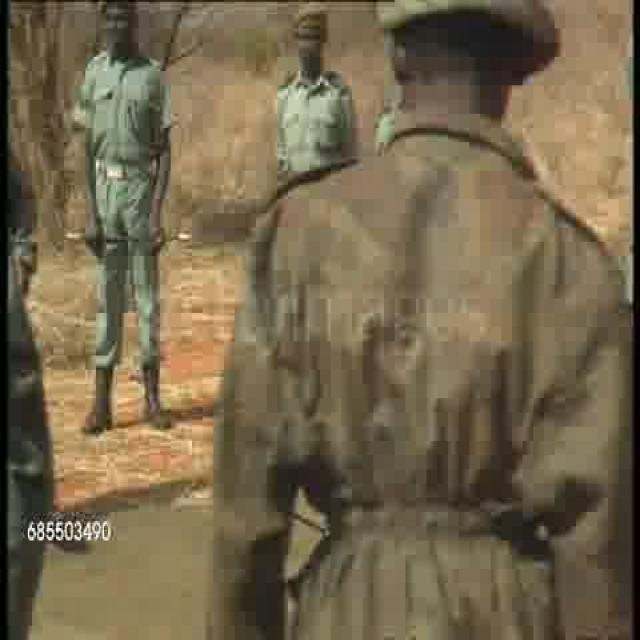poacher: (196, 2, 640, 626), (65, 2, 180, 440), (266, 5, 358, 185)
